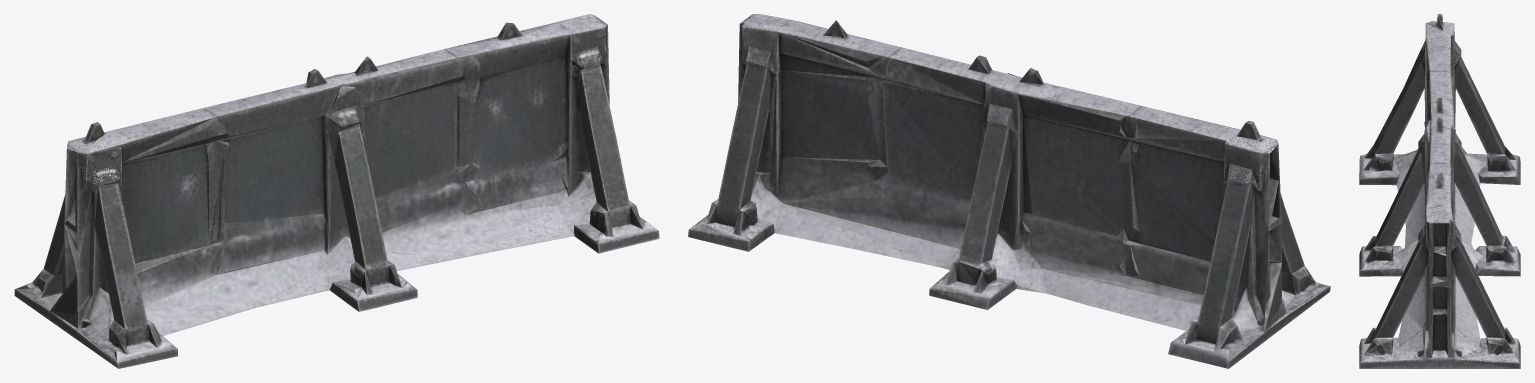
The model's file is barricade.glb.
The picture shows the model from 3 angles, left to right: view 1: azimuth 30°, elevation 25°; view 2: azimuth 150°, elevation 25°; view 3: azimuth 270°, elevation 25°; orthographic projection. The views are drawn at different scales.
Parts seen in each view (by area): view 1: Mesh_0; view 2: Mesh_0; view 3: Mesh_0.
Boxes of the visible parts, x1,y1,x2,y2 form: Mesh_0: [14, 14, 659, 368]; Mesh_0: [688, 14, 1330, 368]; Mesh_0: [1359, 14, 1520, 368].
Size of the model in its own units: 1.9 by 0.6769 by 0.6242.
1 material, 1 textured.
